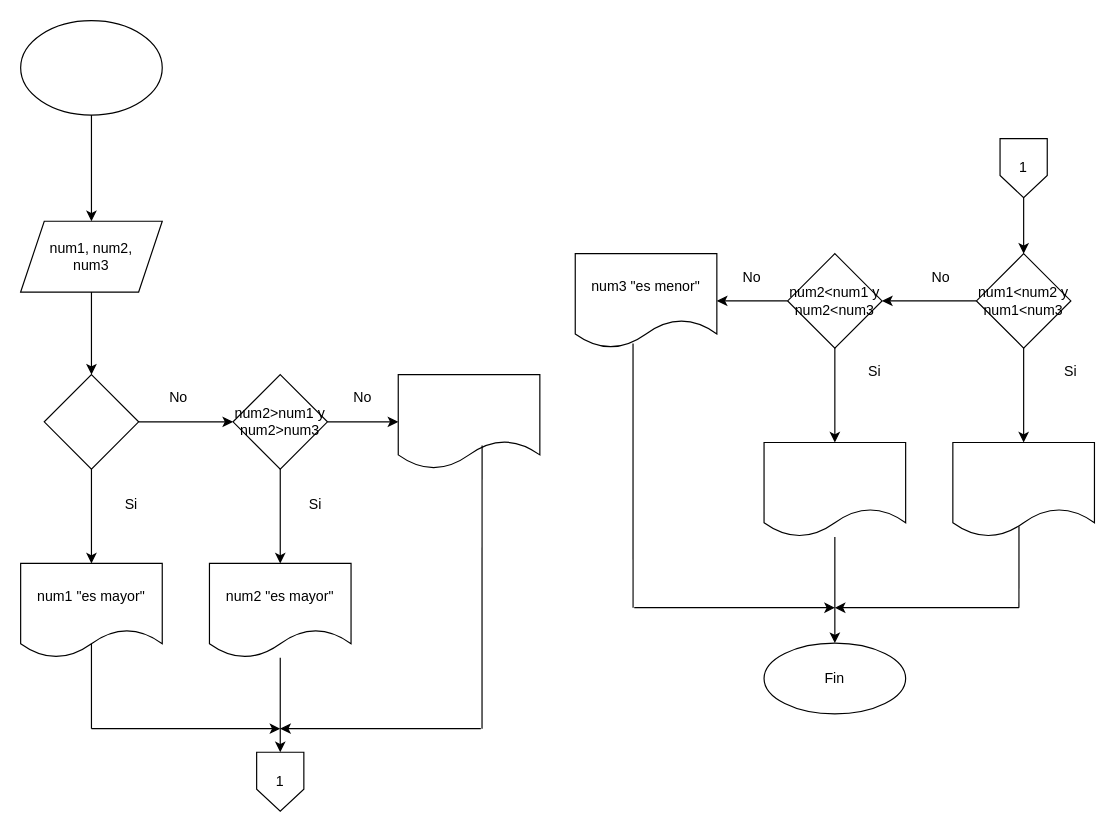
The diagram is 1115 pixels wide and 832 high, and some of its shapes have lost their labels. Each missing label, with the box of its shape:
inicio: (19, 19, 162, 115)
num1 "es menor": (952, 441, 1094, 537)
num1>num2 y num1>num3: (43, 373, 139, 469)
num2 "es menor": (763, 441, 906, 537)
num3 "es el mayor": (397, 373, 540, 469)
